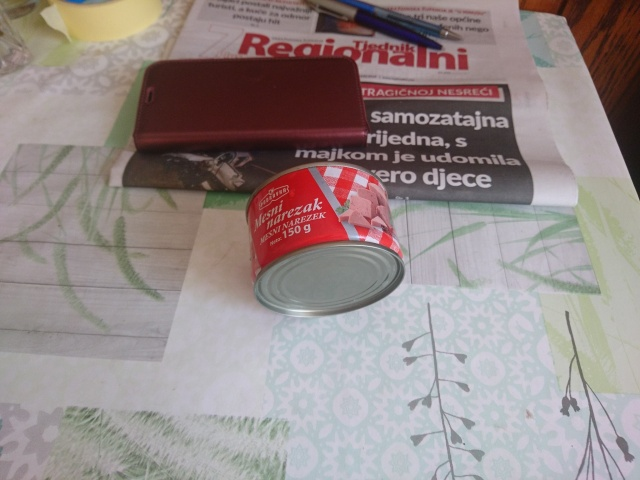Podravka Luncheon Meat 150g: (241, 159, 409, 321)
